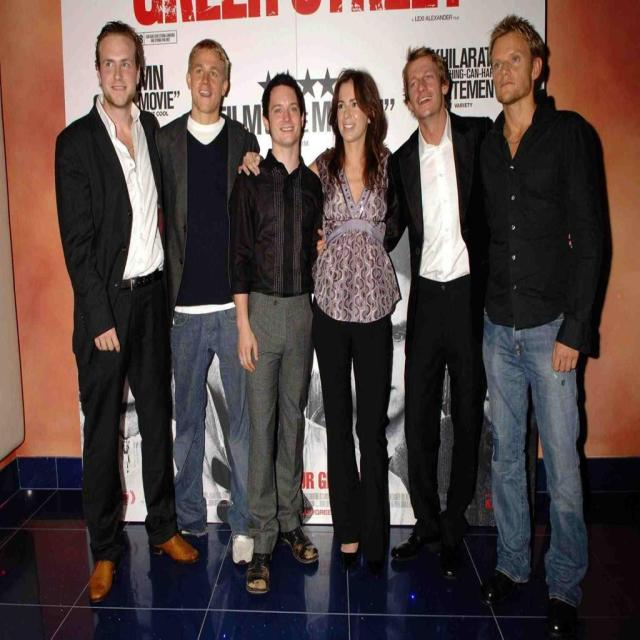Face: (484, 25, 550, 119), (174, 40, 234, 117), (398, 52, 453, 130), (323, 76, 384, 141), (259, 82, 317, 150), (101, 27, 145, 116)
